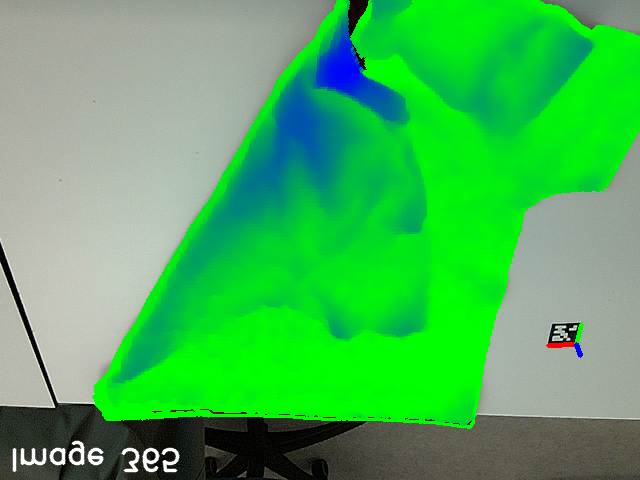V: (394, 295, 441, 344)
